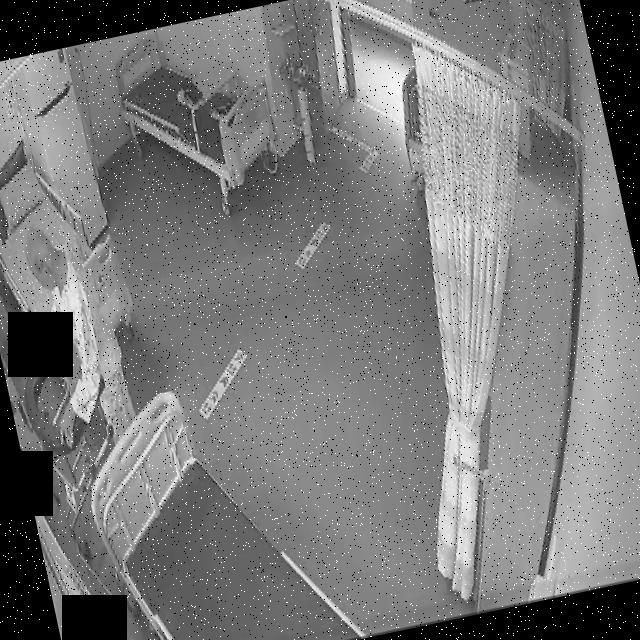bed: (70, 362, 364, 640), (0, 137, 148, 389), (105, 13, 287, 209)
patient: (3, 214, 138, 452)
